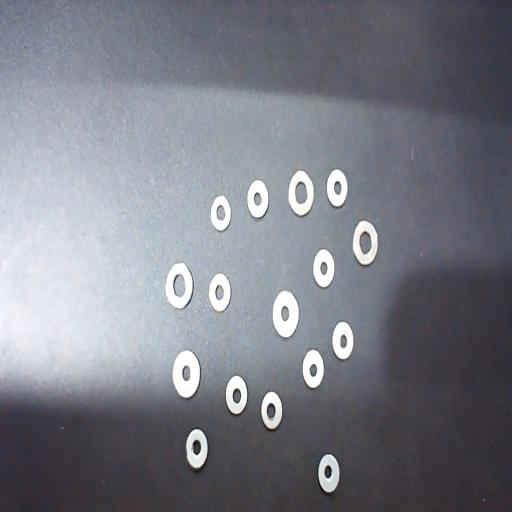washer: (172, 349, 201, 399), (272, 290, 300, 339), (166, 262, 194, 310), (288, 168, 314, 216), (352, 219, 378, 266), (186, 428, 208, 469), (248, 178, 270, 218), (209, 272, 231, 312), (312, 248, 334, 288), (332, 320, 354, 360), (260, 390, 282, 430), (226, 375, 248, 415), (303, 349, 324, 390), (318, 454, 340, 493), (210, 194, 232, 232), (327, 168, 348, 207)
